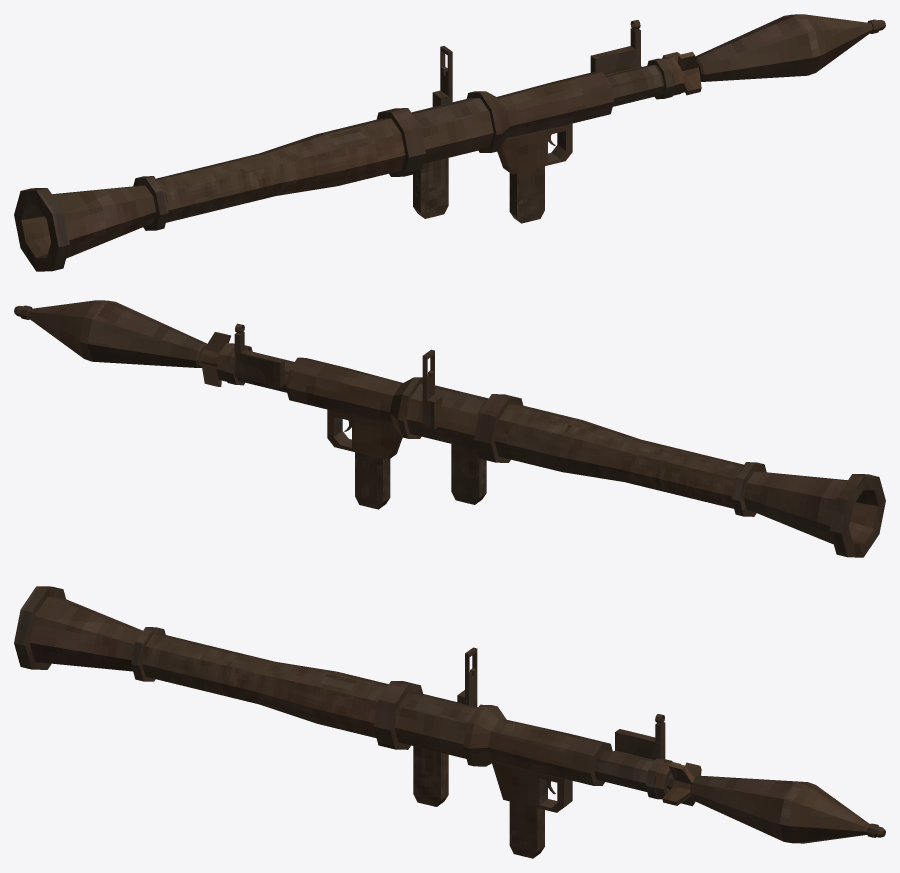
Rendered from shop-item-1085.glb.
3 renders of one model, top to bottom at view 1: azimuth 30°, elevation 25°; view 2: azimuth 150°, elevation 25°; view 3: azimuth 330°, elevation 25°, orthographic.
Visible parts, largest first — view 1: RPG7, Rocket; view 2: RPG7, Rocket; view 3: RPG7, Rocket.
Part boxes in pixels (x1,y1,x2,y2): RPG7: [14, 20, 683, 271]; Rocket: [662, 14, 885, 95]; RPG7: [216, 323, 885, 557]; Rocket: [14, 300, 230, 386]; RPG7: [14, 586, 680, 858]; Rocket: [662, 762, 885, 843].
Bounding box in the file's own units: 12.69 × 2.53 × 1.16.
1 material, 1 textured.
